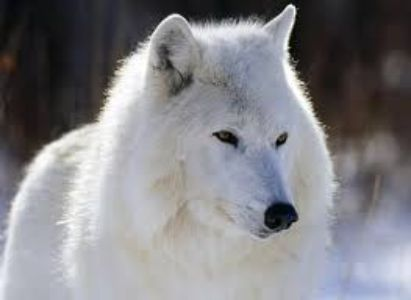wolf: (22, 7, 344, 286)
